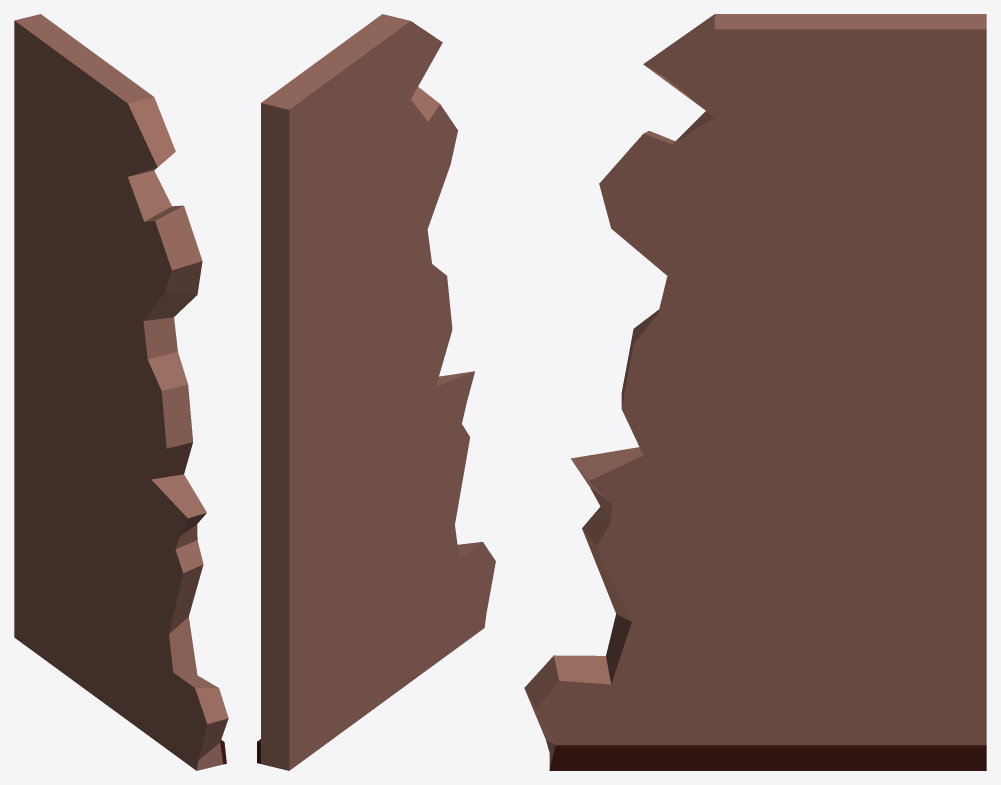
File: T_MurDetruit_02.fbx
3 views of the same model, side by side, from view 1: azimuth 30°, elevation 25°; view 2: azimuth 150°, elevation 25°; view 3: azimuth 270°, elevation 25° (orthographic). The views are drawn at different scales.
Parts seen in each view (by area): view 1: T_MurDetruit_02; view 2: T_MurDetruit_02; view 3: T_MurDetruit_02.
Part boxes in pixels (x1,y1,x2,y2): T_MurDetruit_02: (14, 14, 228, 770); T_MurDetruit_02: (257, 14, 495, 770); T_MurDetruit_02: (524, 14, 986, 770).
Bounding box in the file's own units: 15.31 × 300 × 170.
